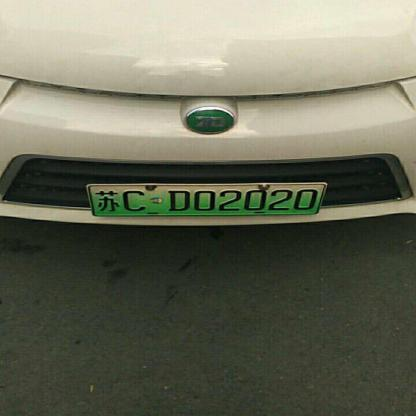lp: (86, 184, 325, 213)
